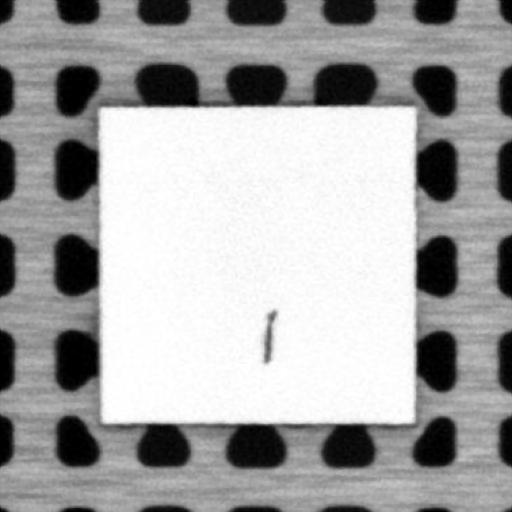DIE_INK: (258, 308, 278, 362)
